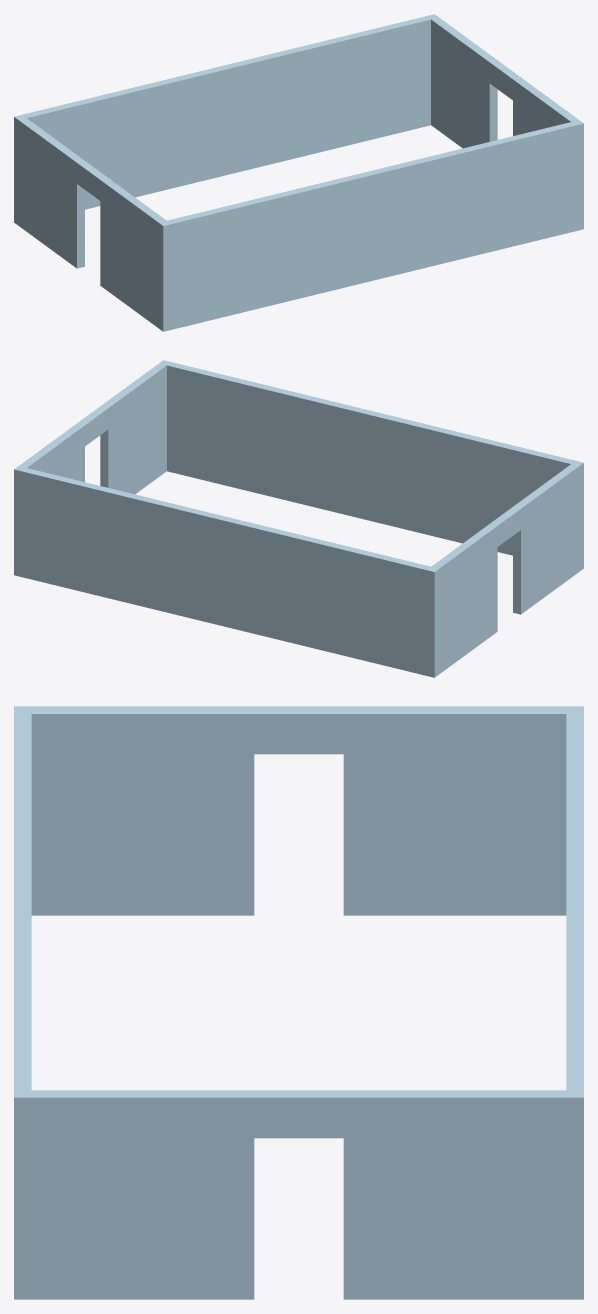
File: 06x04_walls.dae
The picture shows the model from 3 angles, top to bottom: view 1: azimuth 30°, elevation 25°; view 2: azimuth 150°, elevation 25°; view 3: azimuth 270°, elevation 25°; orthographic projection. The views are drawn at different scales.
Parts seen in each view (by area): view 1: 10x6_walls - Mesh 2; view 2: 10x6_walls - Mesh 2; view 3: 10x6_walls - Mesh 2.
Boxes of the visible parts, left/top/right/bottom form: 10x6_walls - Mesh 2: left=14, top=14, right=583, bottom=331; 10x6_walls - Mesh 2: left=14, top=360, right=583, bottom=677; 10x6_walls - Mesh 2: left=14, top=706, right=583, bottom=1299.
Bounding box in the file's own units: 0.6968 × 0.4288 × 0.1675.
